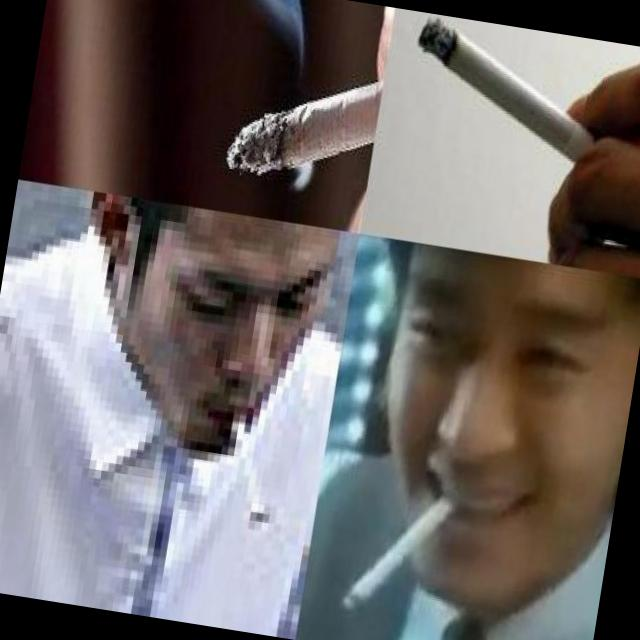cigarette: (402, 12, 620, 170), (221, 0, 394, 197), (338, 471, 468, 628), (210, 394, 300, 534)
